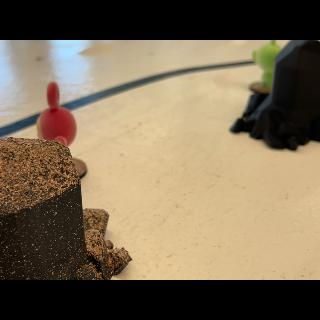teletubby: (37, 82, 77, 146), (252, 40, 281, 88)
